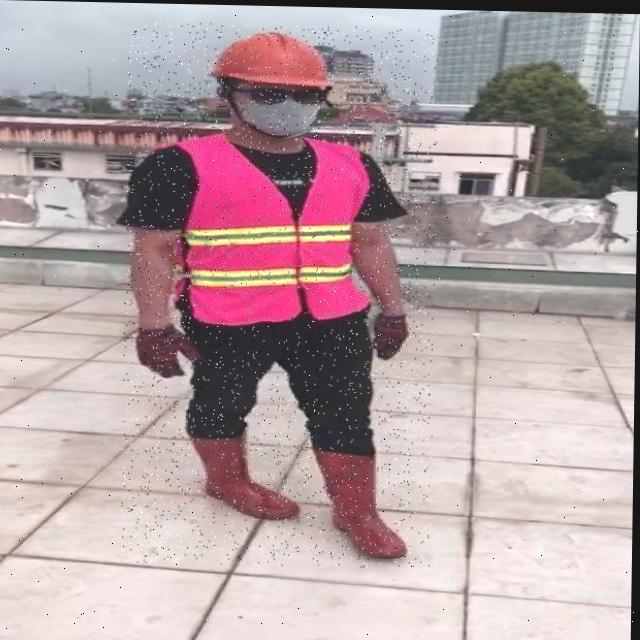Gloves: (137, 322, 203, 378), (375, 310, 410, 357)
Helmet: (210, 26, 335, 89)
Safety-Boot: (315, 438, 410, 556), (192, 422, 304, 519)
Safety-Vest: (155, 130, 378, 327)
